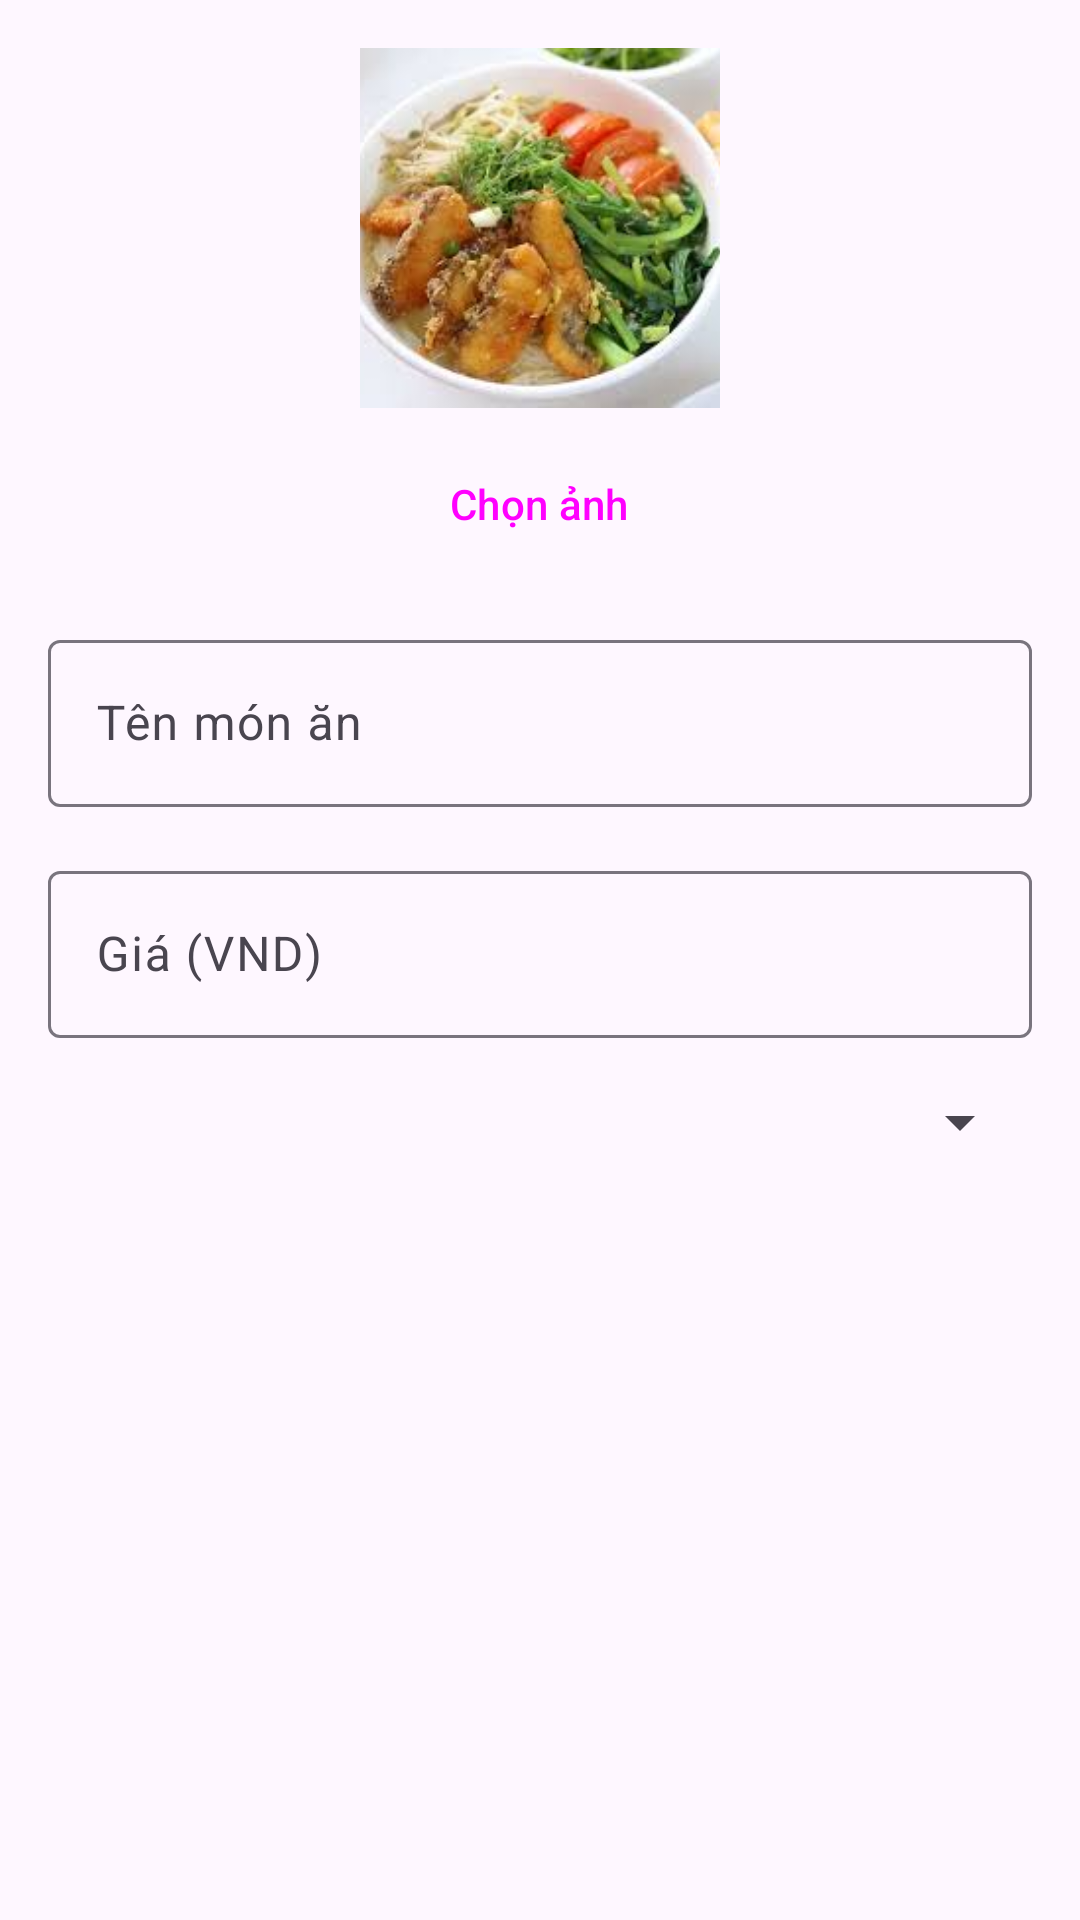

Screen size 1080w x 1920h. Icon name, then its center in pixels as point (x, y):
Ảnh món ăn: point (540, 228)
